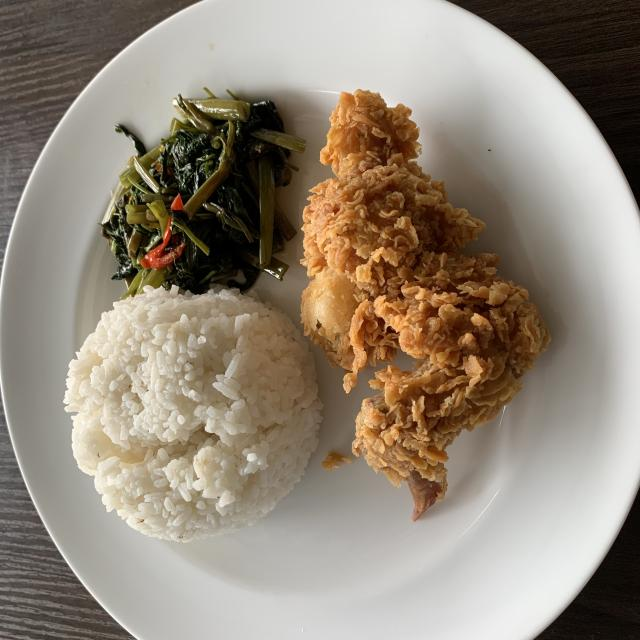Wet Waste: (297, 87, 543, 507), (64, 286, 318, 536), (102, 88, 305, 298)
